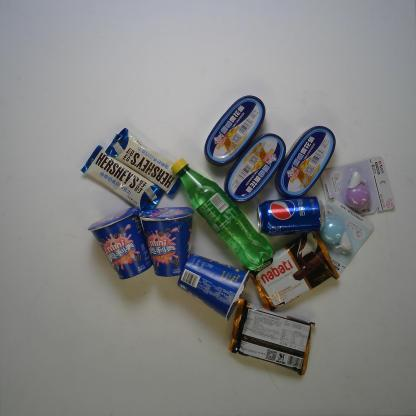Canned Food: (274, 123, 337, 199), (222, 132, 287, 203), (203, 94, 266, 167)
Chocolate: (104, 127, 184, 199), (80, 144, 165, 211)
Dessert: (242, 231, 340, 310), (228, 298, 316, 377), (176, 252, 251, 323), (86, 205, 152, 280), (138, 205, 195, 278)
Drink: (170, 156, 274, 272), (256, 194, 326, 236)
Stationery: (321, 157, 396, 216), (317, 199, 374, 275)
